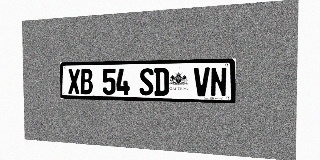4: (116, 68, 129, 95)
5: (102, 69, 116, 95)
B: (80, 69, 93, 94)
D: (154, 68, 169, 96)
N: (210, 67, 227, 97)
S: (139, 68, 153, 95)
V: (194, 67, 210, 96)
X: (68, 69, 80, 94)
